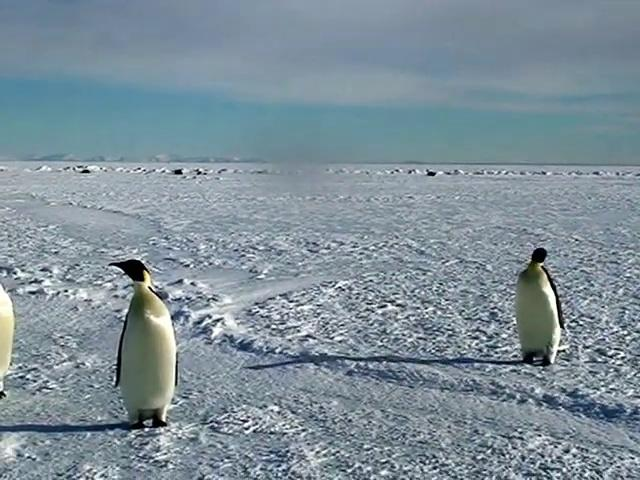animal: (111, 260, 179, 429)
